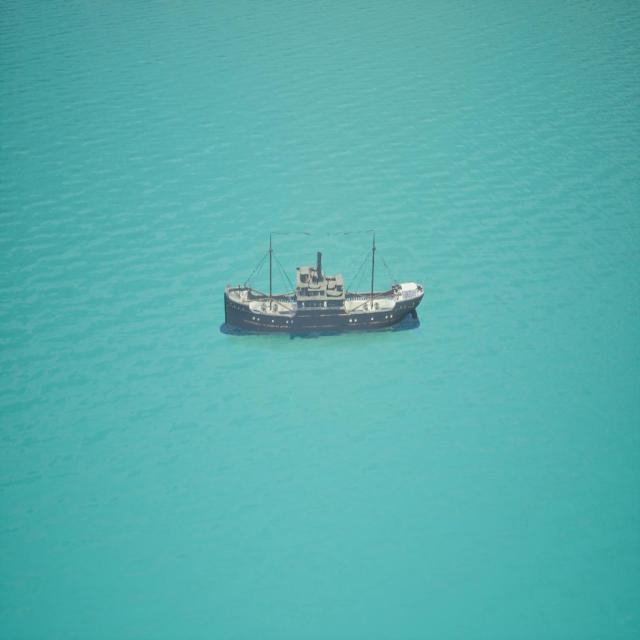fishing ship: (293, 233, 424, 338), (226, 235, 295, 333)
